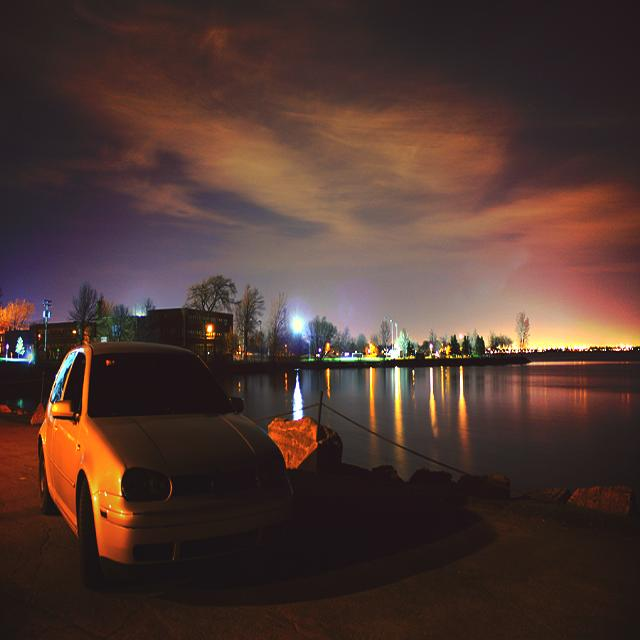Car: (39, 343, 293, 582)
